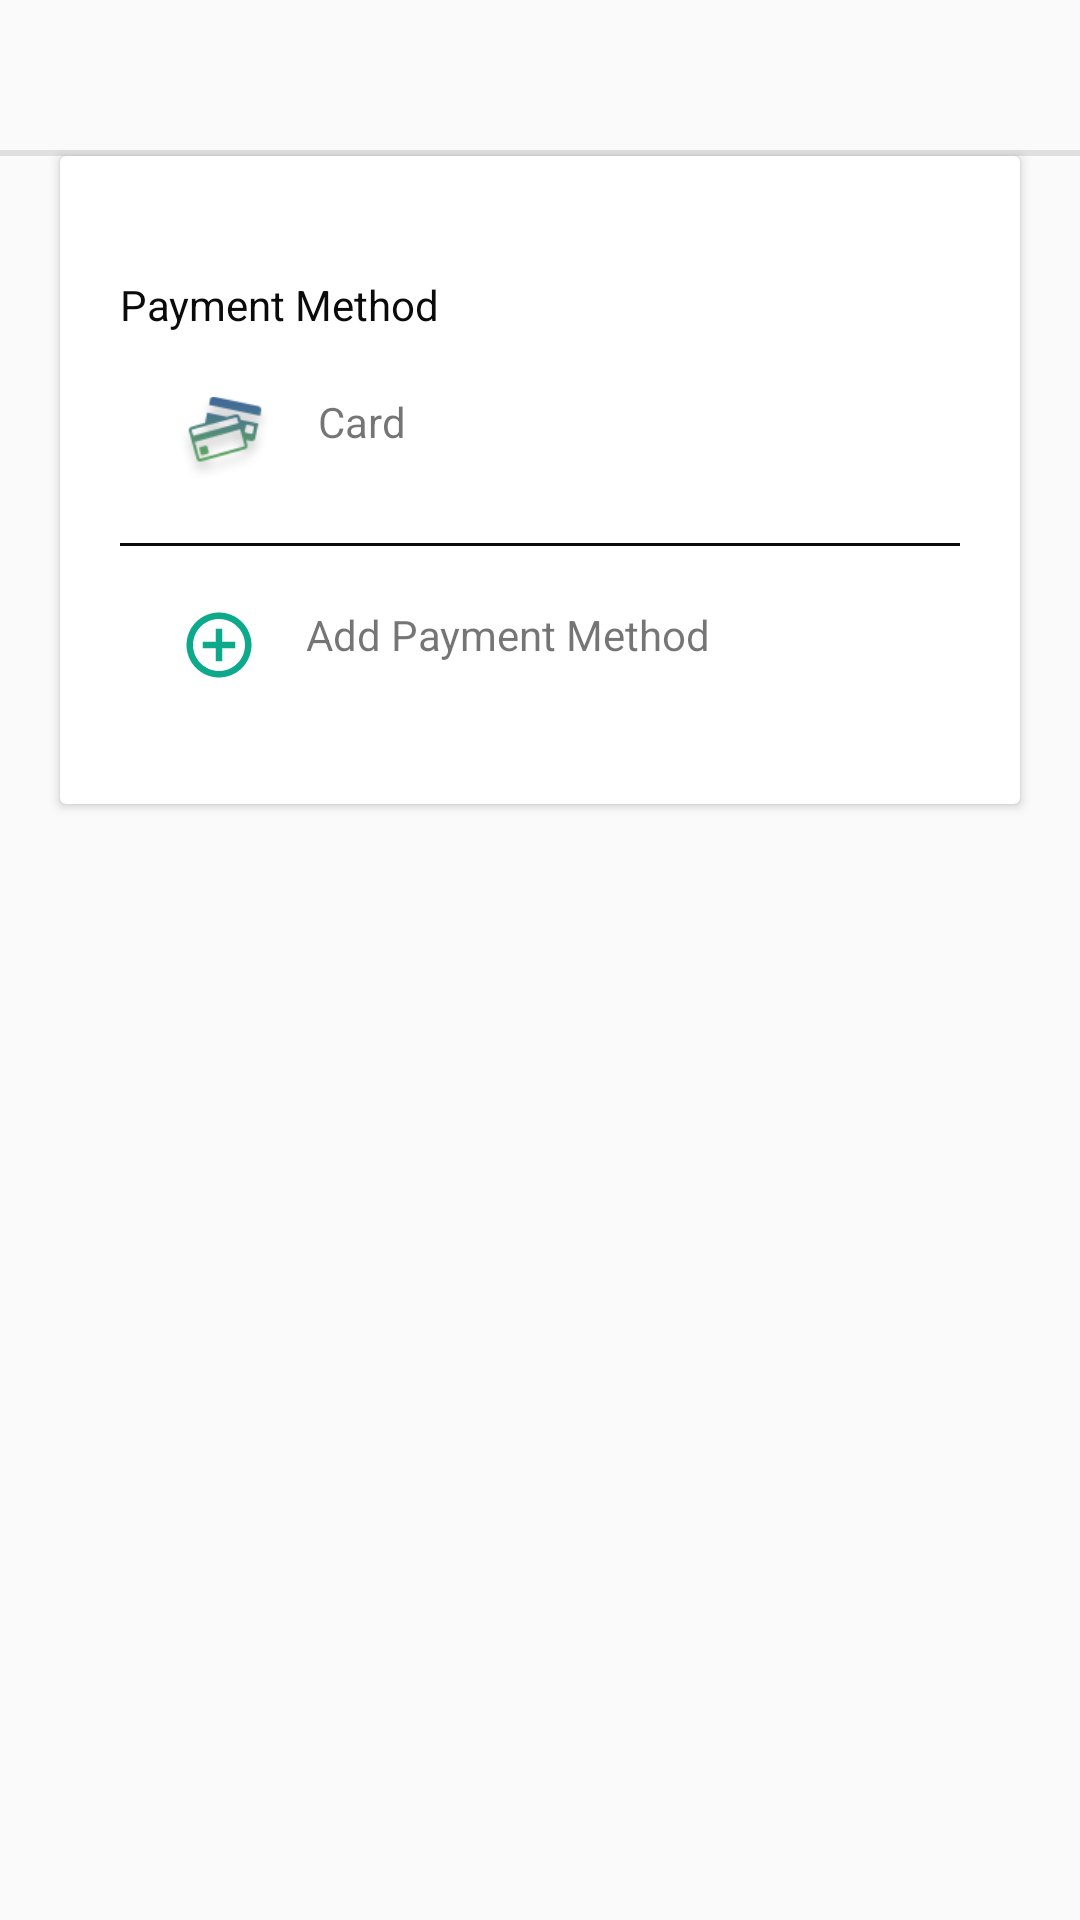

Icon bounding boxes for this 1080px×1920px phone screenshot, format region(x1, y1, x2, y2):
add circle: region(186, 612, 252, 678)
